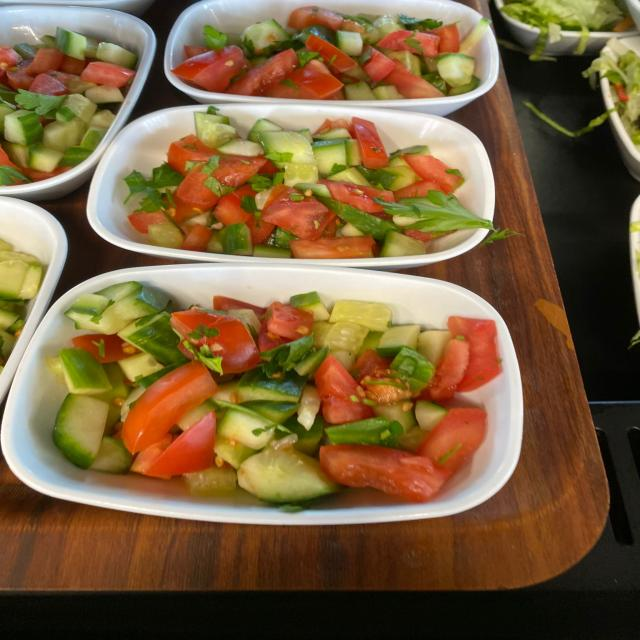yan_yemek: (81, 268, 504, 520), (128, 108, 480, 254), (188, 8, 506, 102)
